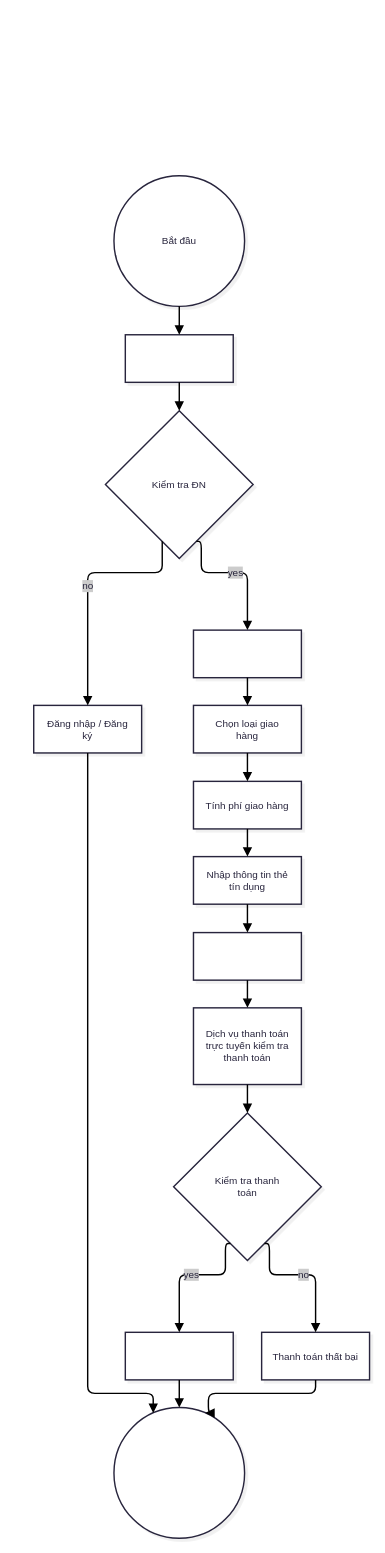
Some shapes in this 385 by 1553 pixel diagram are drawn without their labels. Each missing label, with the centre of its shape:
"Ghi nhận đơn đặt hàng thành công" belongs at point 180,1357.
"Gửi yêu cầu thanh toán" belongs at point 248,957.
"Khách hàng chọn Đặt hàng" belongs at point 180,360.
"Kết thúc" belongs at point 180,1474.
"Nhập thông tin người nhận" belongs at point 248,655.
